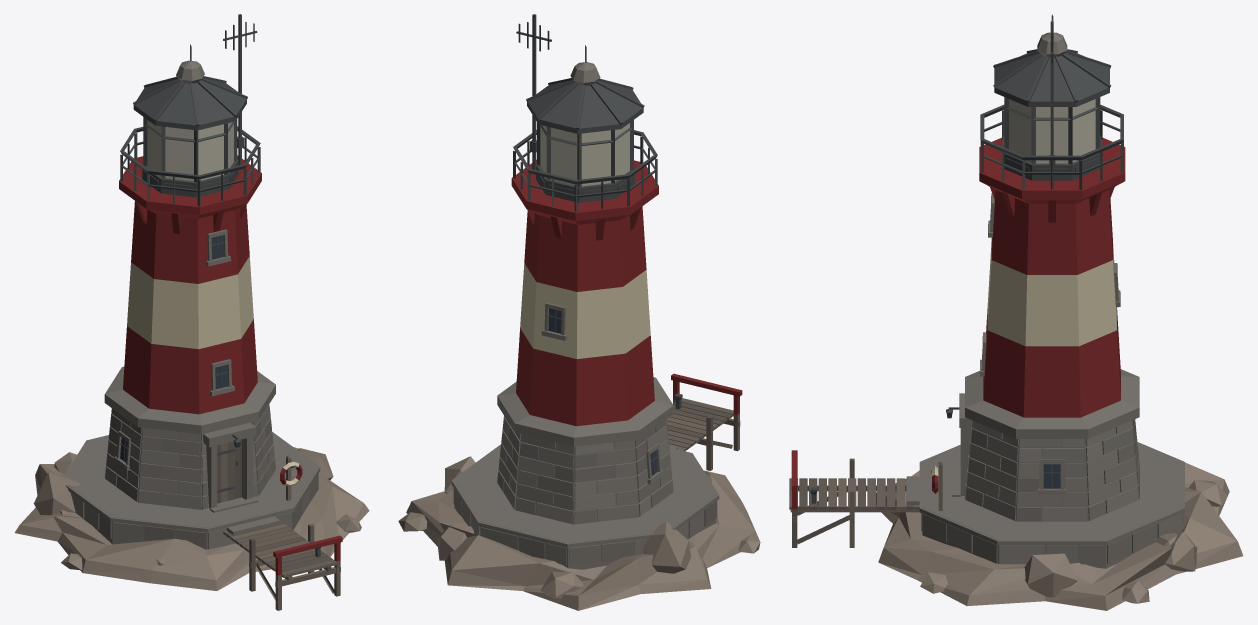
Rendered from lighthouse.glb.
3 renders of one model, left to right at view 1: azimuth 30°, elevation 25°; view 2: azimuth 150°, elevation 25°; view 3: azimuth 270°, elevation 25°, orthographic. The views are drawn at different scales.
Visible parts, largest first — view 1: old-lighthouse-body; view 2: old-lighthouse-body; view 3: old-lighthouse-body.
Part boxes in pixels (x1,y1,x2,y2): old-lighthouse-body: (14,14,369,610); old-lighthouse-body: (398,14,760,610); old-lighthouse-body: (789,14,1243,610).
Size of the model in its own units: 8.85 by 13.88 by 10.66.
